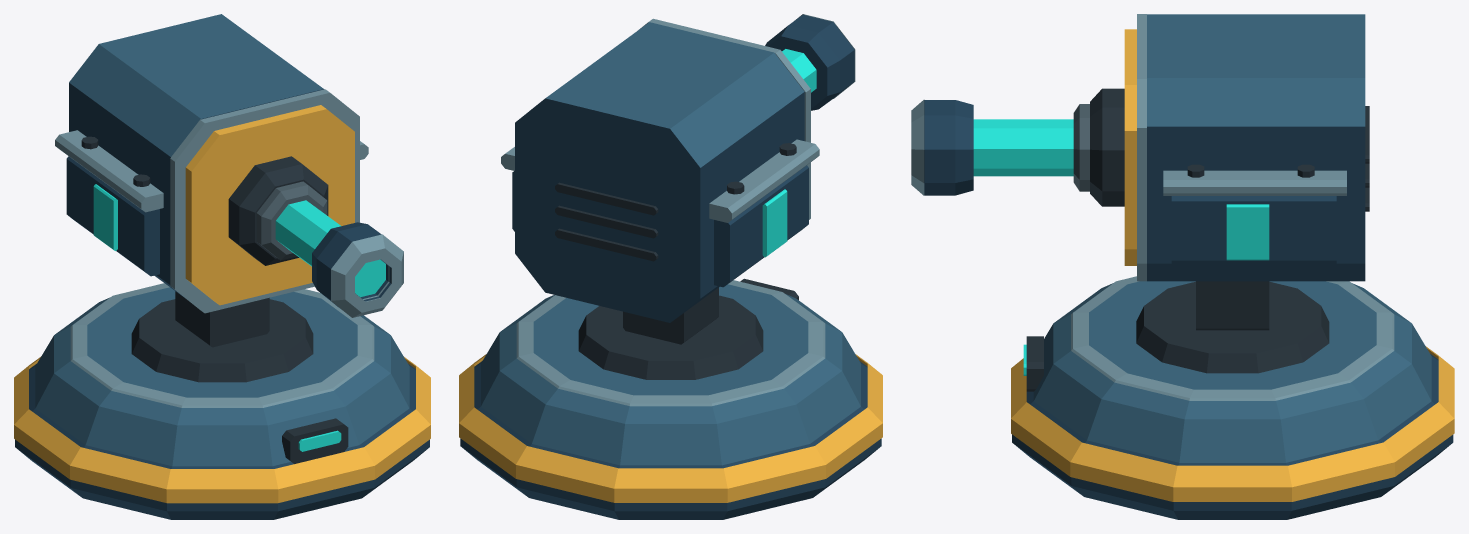
File: LaserTurret.obj
The picture shows the model from 3 angles, left to right: view 1: azimuth 30°, elevation 25°; view 2: azimuth 150°, elevation 25°; view 3: azimuth 270°, elevation 25°; orthographic projection. The views are drawn at different scales.
Parts seen in each view (by area): view 1: UpperPlinth, UpperArmor, GoldFacePlate, GoldBelt, Turntable, Foundation, FrontRim, TopRim, Housing, SideHousingL, EmitterSocket, MuzzleRim (+9 smaller); view 2: Housing, UpperPlinth, UpperArmor, GoldBelt, Turntable, Foundation, TopRim, SideHousingL, MuzzleCage, SideRailL, Support, FrontRim (+5 smaller); view 3: UpperPlinth, UpperArmor, GoldBelt, Housing, Turntable, SideHousingR, Foundation, TopRim, EnergyRod, MuzzleCage, SideRailR, EmitterSocket (+7 smaller).
Part boxes in pixels (x1,y1,x2,y2): UpperPlinth: [35, 287, 409, 466]; UpperArmor: [69, 14, 323, 156]; GoldFacePlate: [185, 105, 354, 305]; GoldBelt: [14, 357, 430, 503]; Turntable: [131, 299, 313, 382]; Foundation: [15, 363, 429, 519]; FrontRim: [170, 89, 359, 313]; TopRim: [70, 283, 374, 407]; Housing: [69, 83, 324, 299]; SideHousingL: [66, 156, 159, 276]; EmitterSocket: [228, 156, 328, 265]; MuzzleRim: [331, 234, 403, 317]; Housing: [515, 92, 804, 322]; UpperPlinth: [481, 284, 860, 465]; UpperArmor: [545, 22, 804, 167]; GoldBelt: [459, 354, 882, 502]; Turntable: [578, 295, 763, 379]; Foundation: [460, 361, 881, 519]; TopRim: [516, 280, 825, 406]; SideHousingL: [714, 165, 808, 287]; MuzzleCage: [765, 14, 854, 110]; SideRailL: [709, 139, 819, 222]; Support: [623, 287, 718, 344]; FrontRim: [640, 18, 810, 219]; UpperPlinth: [1033, 281, 1431, 462]; UpperArmor: [1147, 14, 1365, 126]; GoldBelt: [1011, 346, 1454, 501]; Housing: [1147, 126, 1365, 281]; Turntable: [1136, 281, 1329, 373]; SideHousingR: [1171, 196, 1336, 264]; Foundation: [1012, 353, 1453, 519]; TopRim: [1071, 276, 1394, 400]; EnergyRod: [973, 119, 1073, 176]; MuzzleCage: [924, 100, 973, 195]; SideRailR: [1163, 170, 1346, 195]; EmitterSocket: [1090, 88, 1124, 206].
Size of the model in its own units: 2.18 by 2.1 by 2.66.
